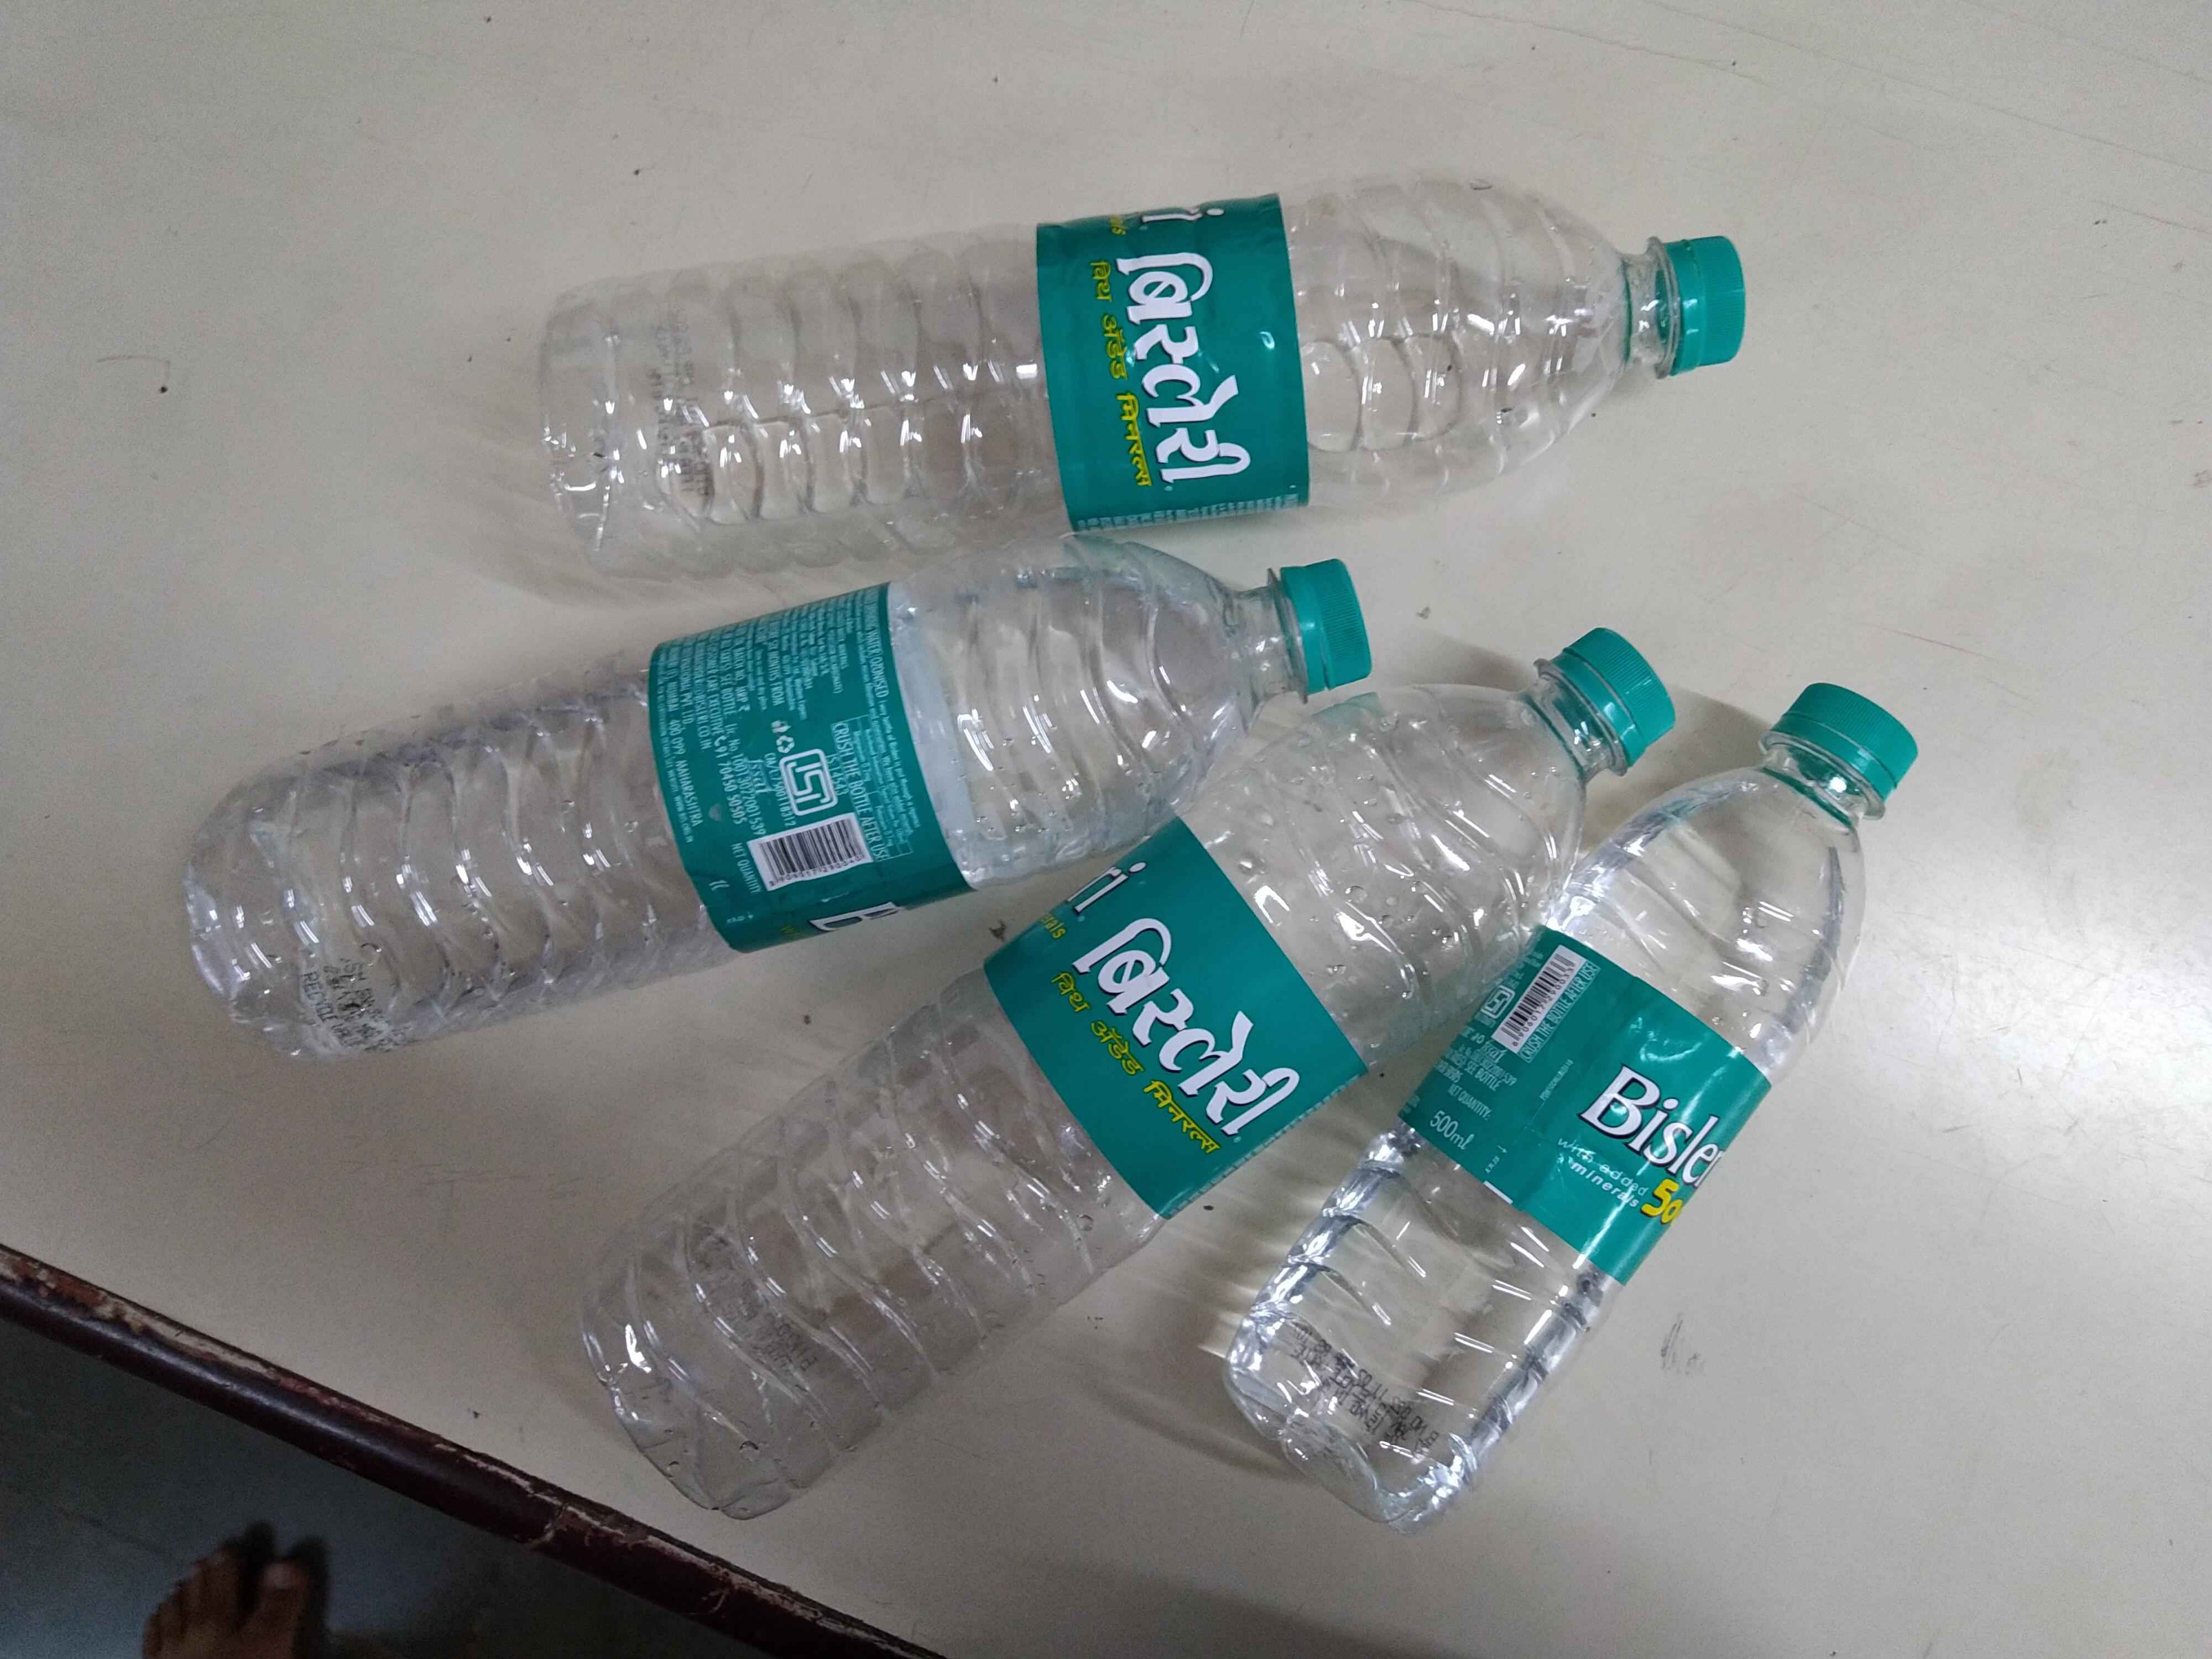Bisleri: (1040, 856, 1306, 1124), (1050, 197, 1256, 502), (1545, 1025, 1764, 1223), (744, 863, 930, 920)
